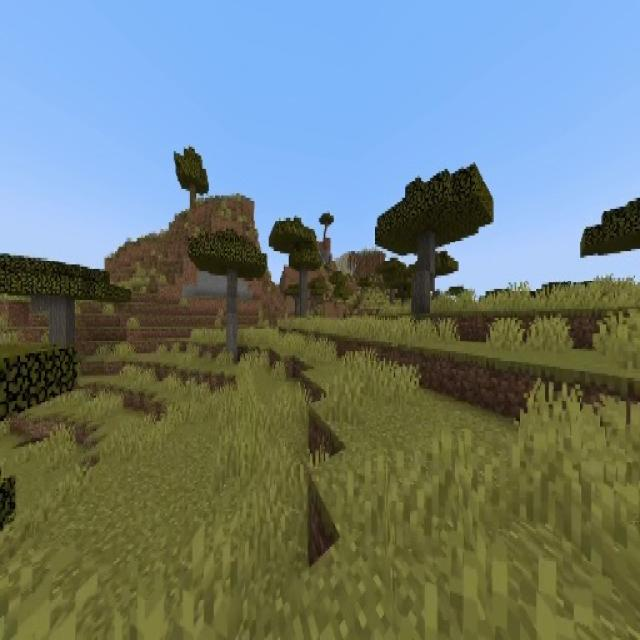acacia: (373, 167, 494, 312), (0, 259, 131, 352), (190, 228, 268, 363), (272, 217, 322, 319)
acacia_log: (412, 234, 435, 316), (51, 294, 73, 352), (300, 268, 307, 318)
oak: (173, 145, 209, 211), (226, 268, 238, 358)
